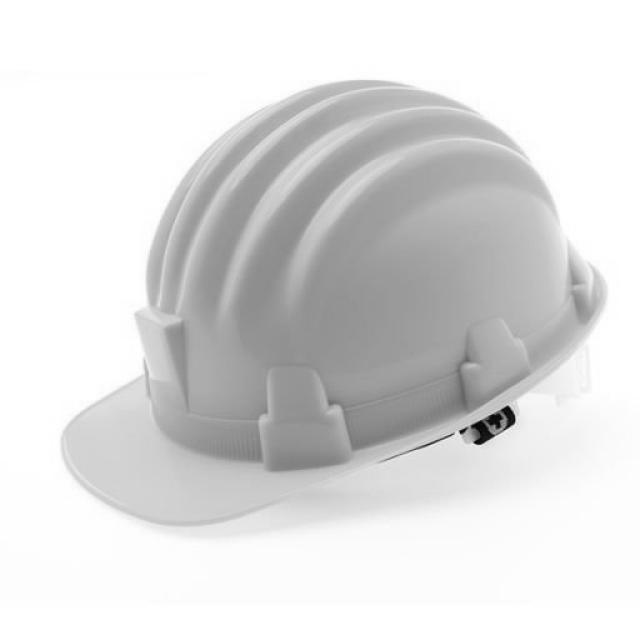safety_helmet: (59, 80, 609, 530)
